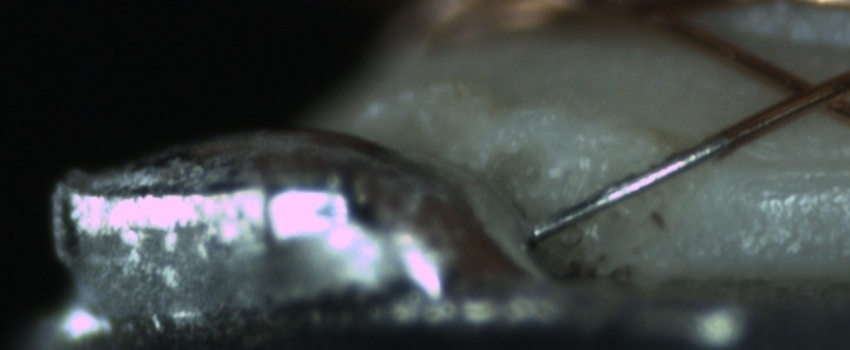CL: (769, 64, 848, 119)
DL: (694, 131, 849, 195)
TS: (531, 134, 731, 245)
